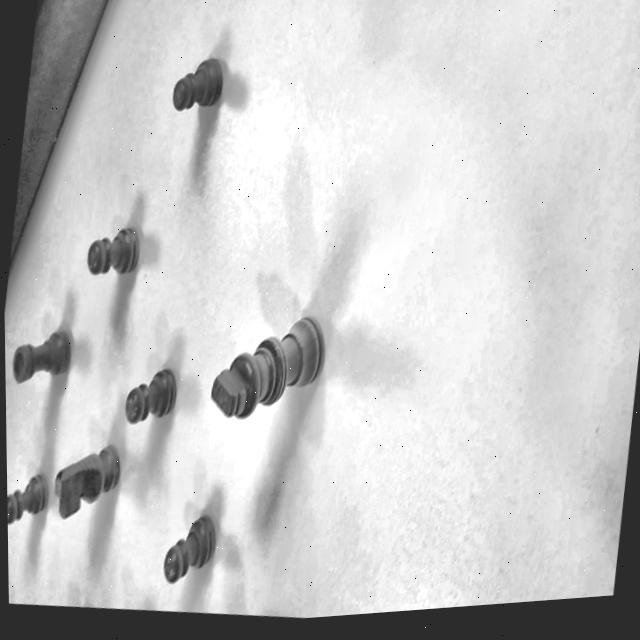black-king: (200, 286, 343, 441)
black-knight: (45, 426, 125, 539)
black-pawn: (150, 483, 228, 604), (162, 32, 238, 134), (115, 340, 187, 443), (76, 209, 150, 296), (7, 454, 55, 540)
black-rook: (5, 308, 81, 405)
